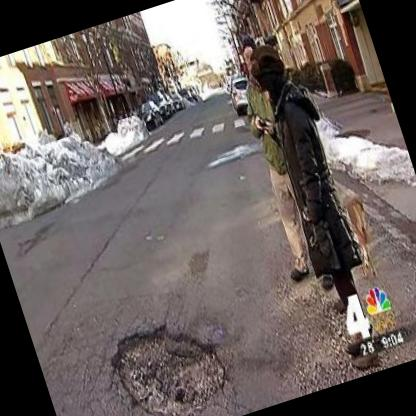pothole: (101, 303, 236, 416)
